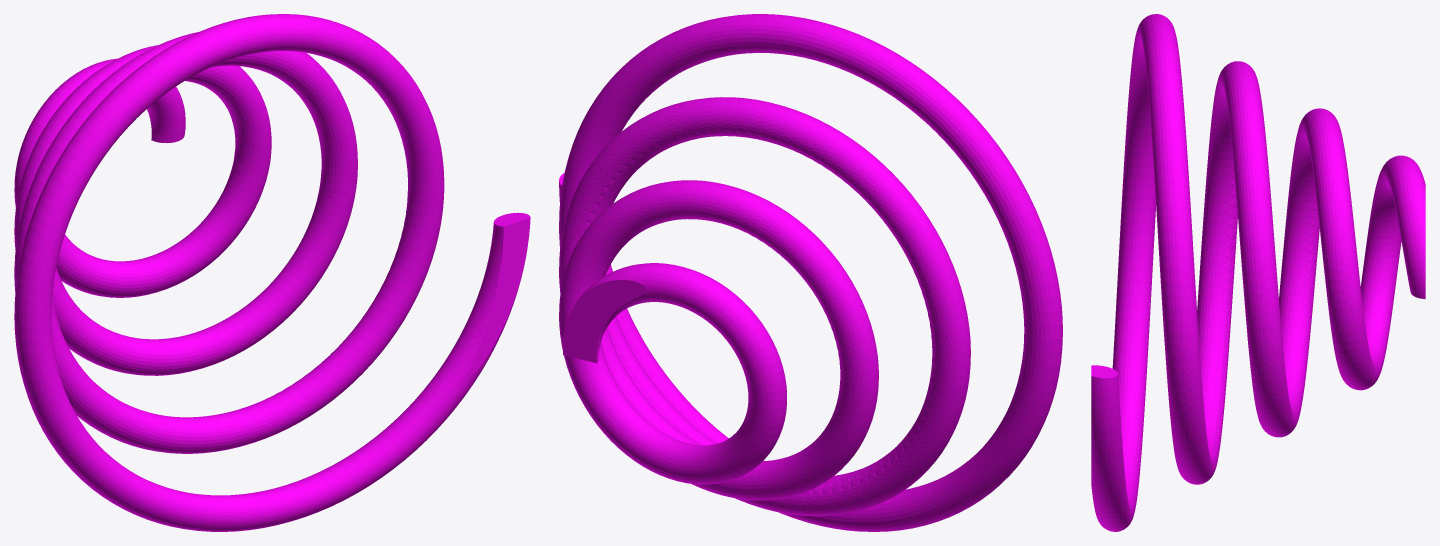
File: inlet_spring.obj
The picture shows the model from 3 angles, left to right: view 1: azimuth 30°, elevation 25°; view 2: azimuth 150°, elevation 25°; view 3: azimuth 270°, elevation 25°; orthographic projection. The views are drawn at different scales.
Visible parts, largest first — view 1: inlet_spring_Cut001.002; view 2: inlet_spring_Cut001.002; view 3: inlet_spring_Cut001.002.
Boxes of the visible parts, x1=… form: inlet_spring_Cut001.002: x1=14, y1=14, x2=530, y2=531; inlet_spring_Cut001.002: x1=559, y1=14, x2=1062, y2=531; inlet_spring_Cut001.002: x1=1091, y1=14, x2=1425, y2=531.
Size of the model in its own units: 0.9149 by 0.8745 by 0.572.
